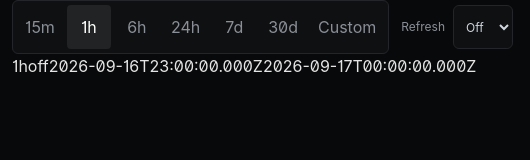
Test: admin time range preferences › moves a refresh window forward on the configured interval
The image size is (530, 160).
Select "5s" in the dropdown labelled "Refresh": (483, 27) 453,5 -> 513,49
Wait 5000 ms
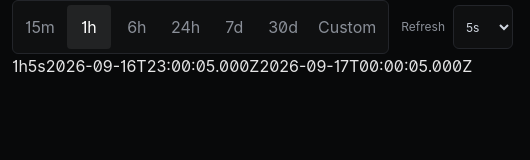
Check: the text with test id "to" no longer shows "2026-09-17T00:00:00.000Z", box 259,56 -> 472,76
